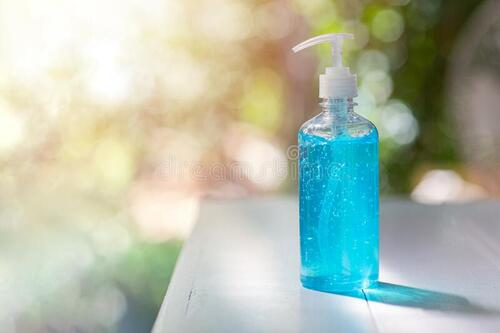sanitizer: (290, 30, 382, 293)
